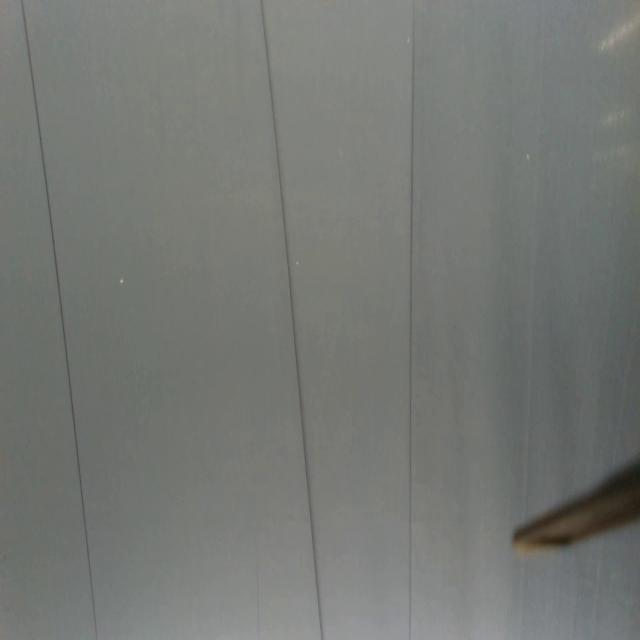crease: (22, 0, 98, 640), (259, 0, 325, 640), (522, 0, 548, 510), (406, 0, 417, 639)
hole: (334, 142, 346, 164), (403, 32, 412, 50), (294, 253, 300, 269), (526, 150, 532, 162), (118, 277, 125, 287)
